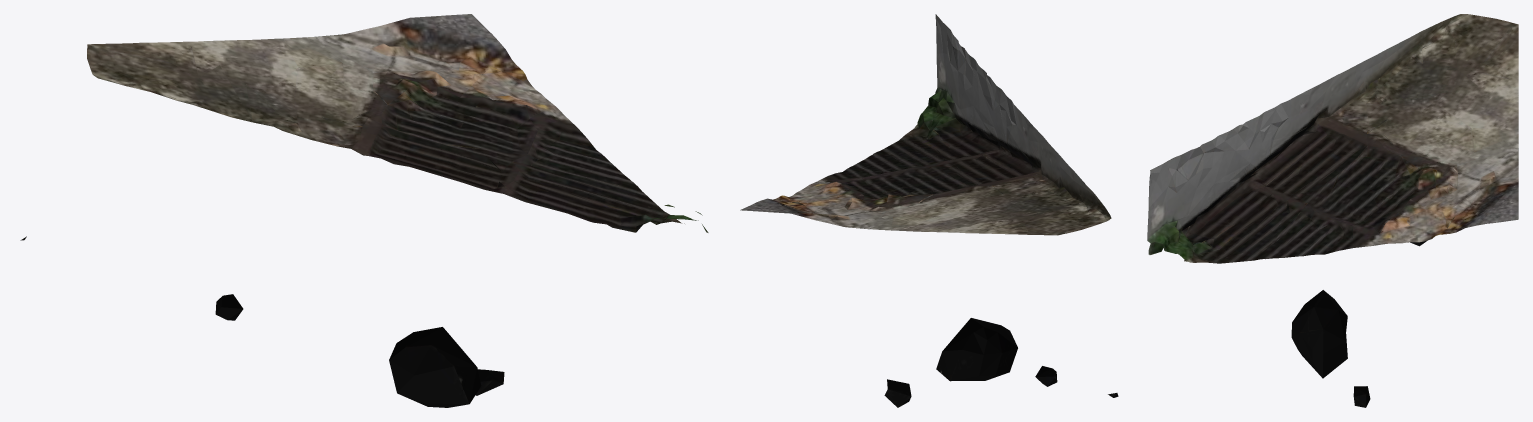
3 views of the same model, side by side, from view 1: azimuth 30°, elevation 25°; view 2: azimuth 150°, elevation 25°; view 3: azimuth 270°, elevation 25° (orthographic). The views are drawn at different scales.
Size of the model in its own units: 1.65 by 1.21 by 1.49.
Materials: 2 (2 with a texture image).
